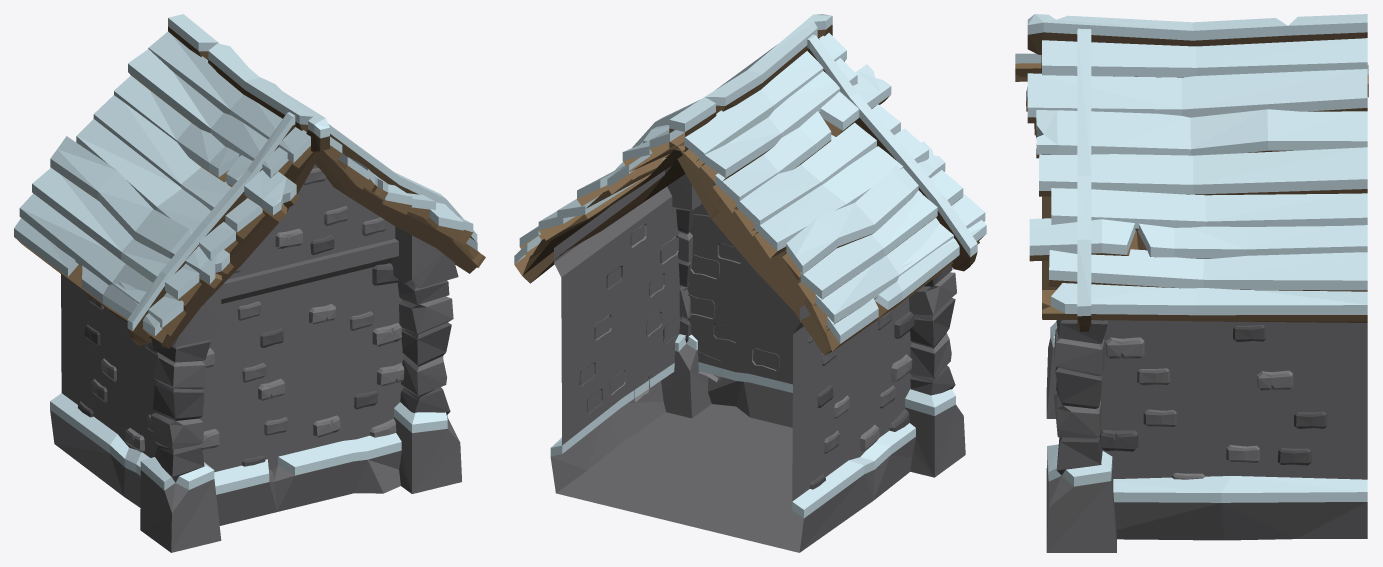
The model's file is SM_Bld_Church_Extension_01_Snow.gltf.
3 views of the same model, side by side, from view 1: azimuth 30°, elevation 25°; view 2: azimuth 150°, elevation 25°; view 3: azimuth 270°, elevation 25° (orthographic). The views are drawn at different scales.
Parts seen in each view (by area): view 1: SM_Bld_Church_Extension_01_Snow; view 2: SM_Bld_Church_Extension_01_Snow; view 3: SM_Bld_Church_Extension_01_Snow.
Part boxes in pixels (x1=…): SM_Bld_Church_Extension_01_Snow: x1=14, y1=14, x2=485, y2=552; SM_Bld_Church_Extension_01_Snow: x1=514, y1=14, x2=986, y2=552; SM_Bld_Church_Extension_01_Snow: x1=1015, y1=14, x2=1368, y2=552.
Size of the model in its own units: 4.25 by 4.68 by 3.31.
1 material, 1 textured.
